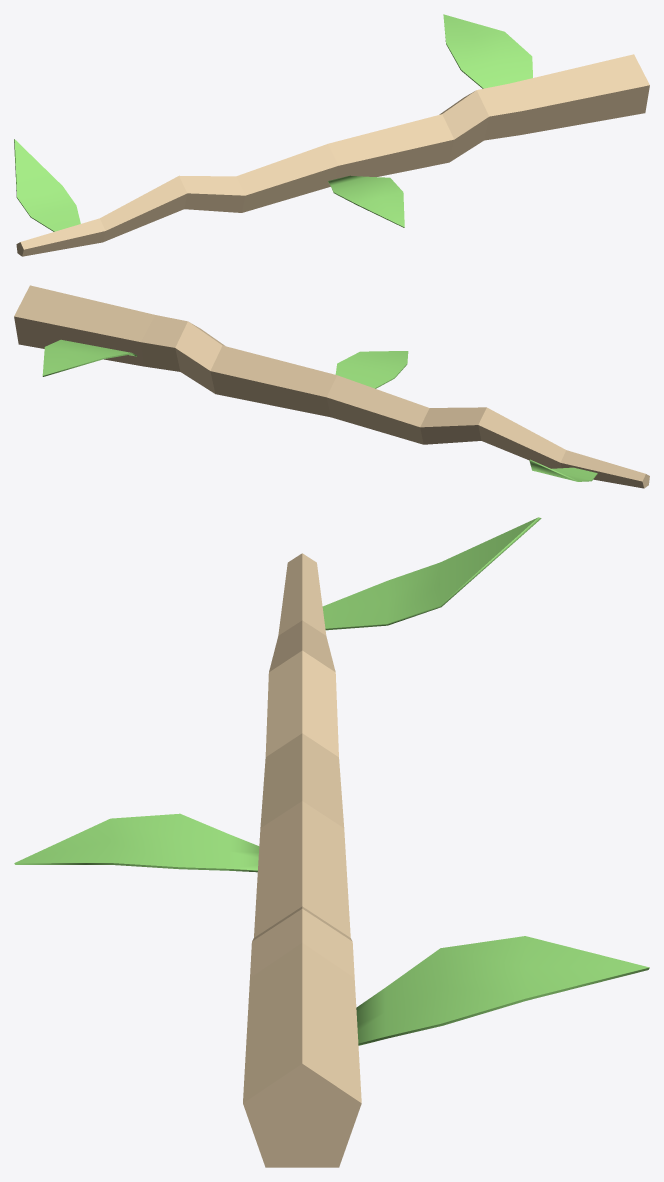
The model's file is wood.fbx.
The picture shows the model from 3 angles, top to bottom: view 1: azimuth 30°, elevation 25°; view 2: azimuth 150°, elevation 25°; view 3: azimuth 270°, elevation 25°; orthographic projection. The views are drawn at different scales.
Visible parts, largest first — view 1: wood; view 2: wood; view 3: wood.
Part boxes in pixels (box(x1,y1,x2,y2)): wood: box(14, 14, 649, 256); wood: box(14, 285, 649, 488); wood: box(14, 517, 649, 1167).
Size of the model in its own units: 740 by 74.17 by 339.
